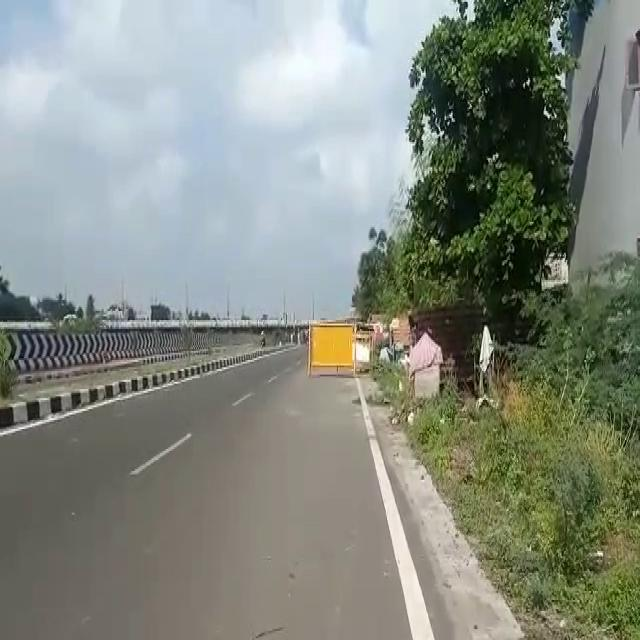fallen_object: (295, 307, 368, 391)
